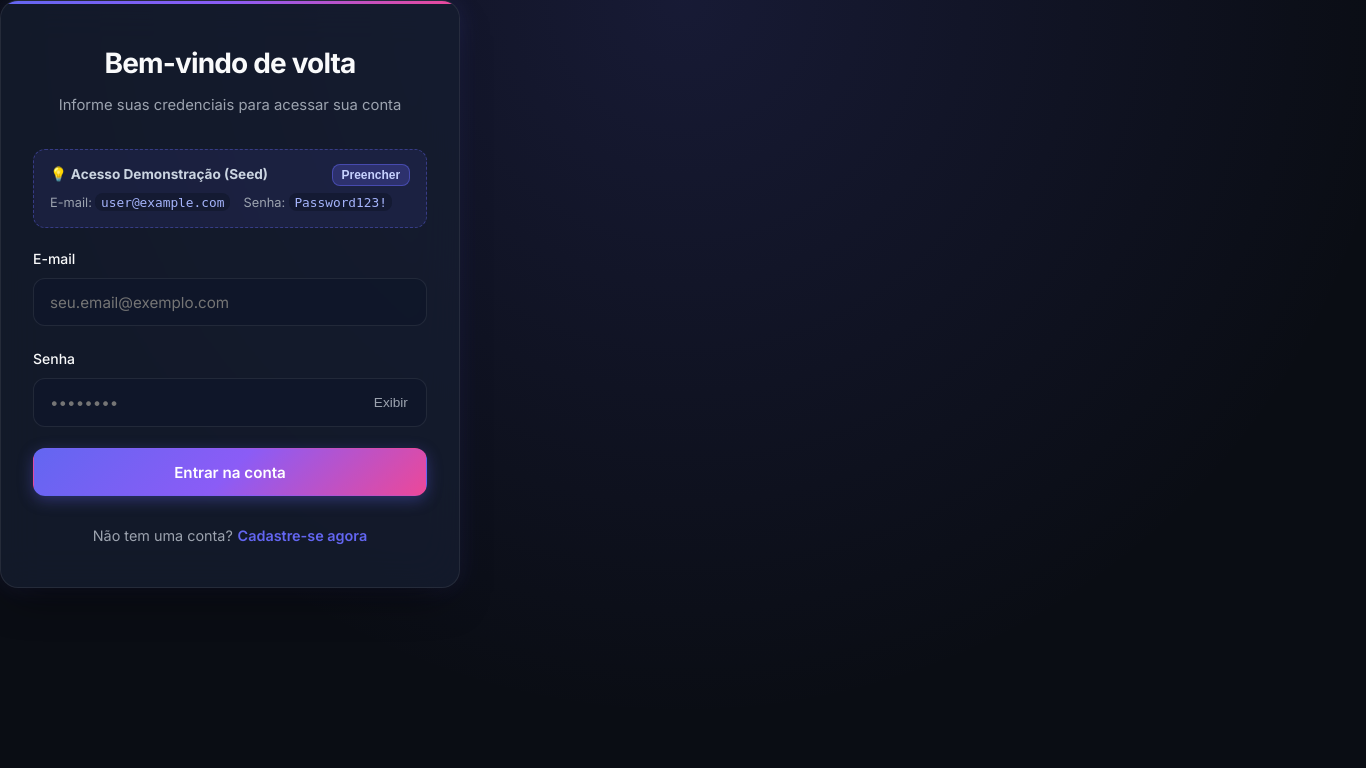
Test: LoginForm Unit Tests › exibe mensagem de erro na interface quando a autenticação falha
Type "usuario@exemplo.com" into the field with test id "input-email".
click(230, 302); type("usuario@exemplo.com")  # box [33,278,427,326]
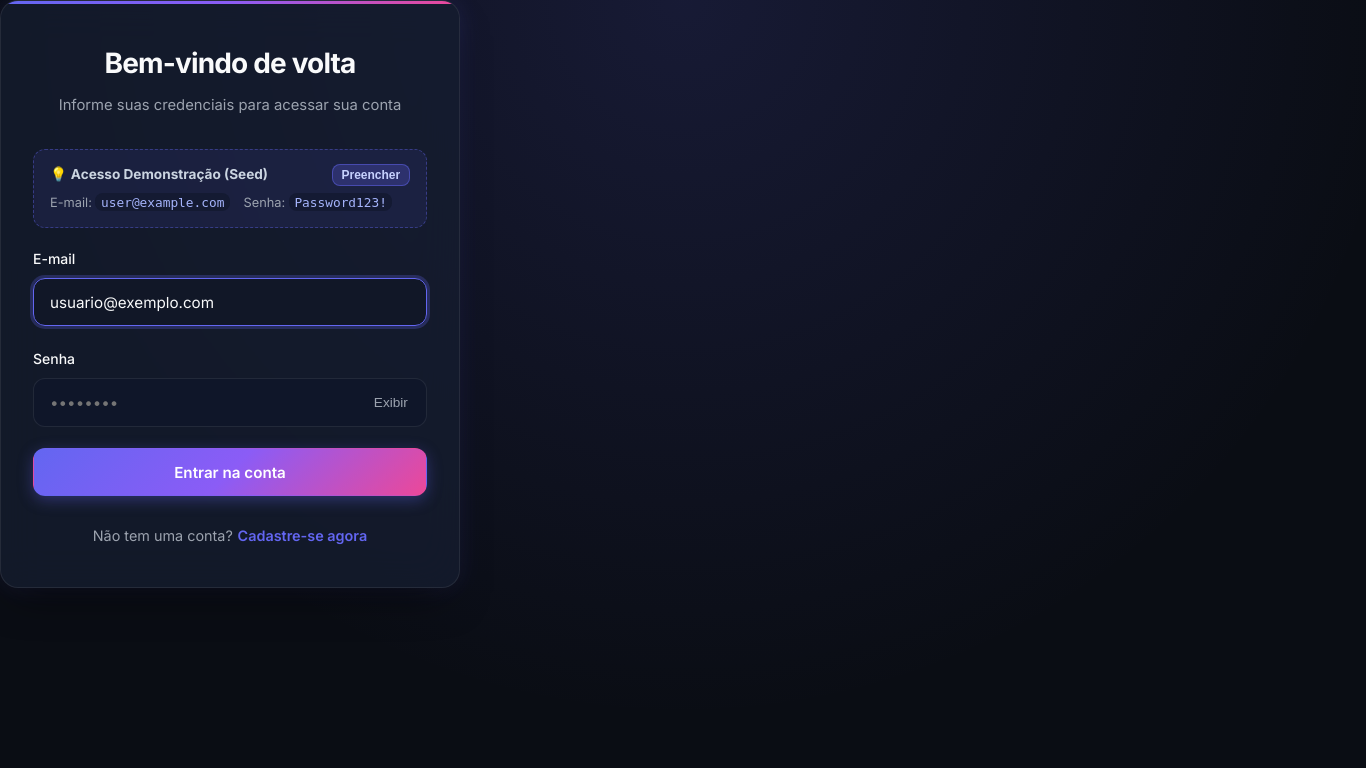
Type "senhaErrada" into the password field with test id "input-password".
click(230, 403); type("senhaErrada")  # box [33,378,427,427]
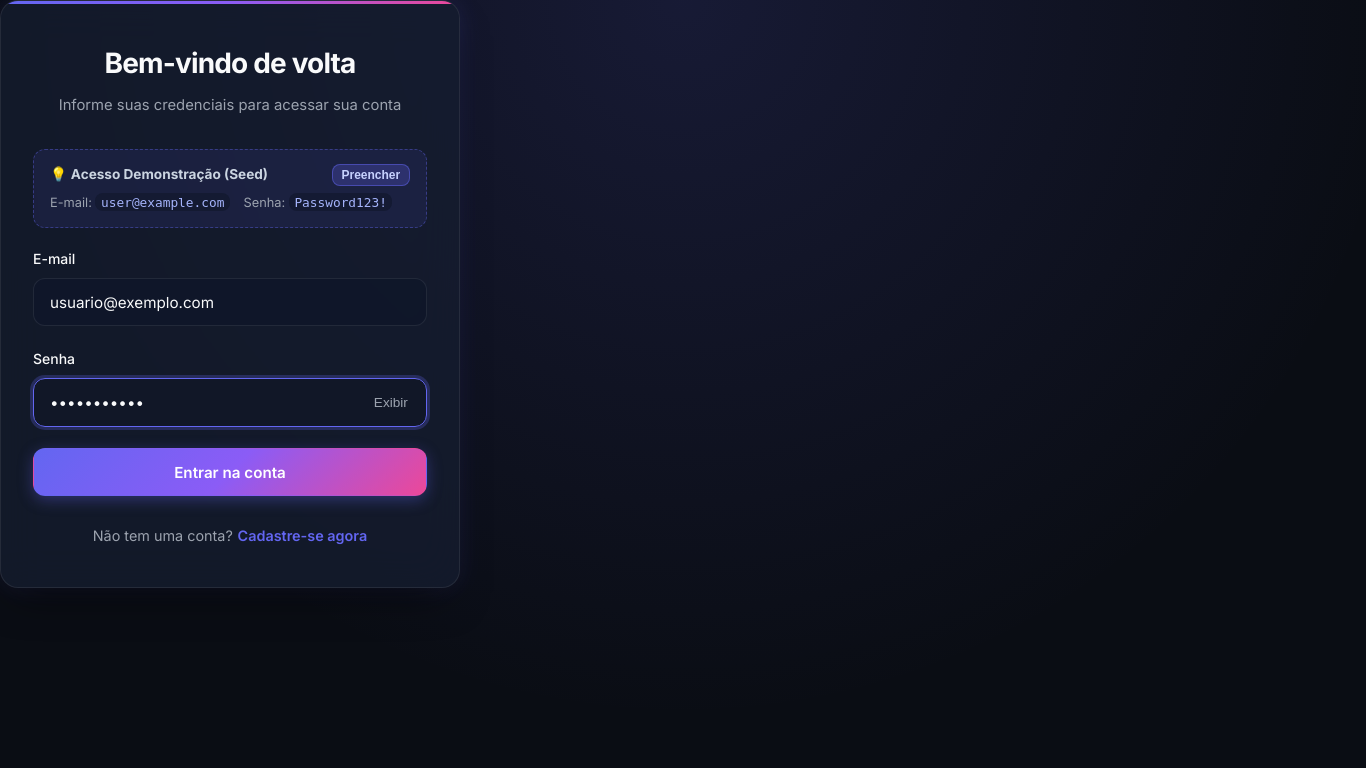
Click the button with test id "submit-login-button".
click(230, 472)  # box [33,448,427,496]
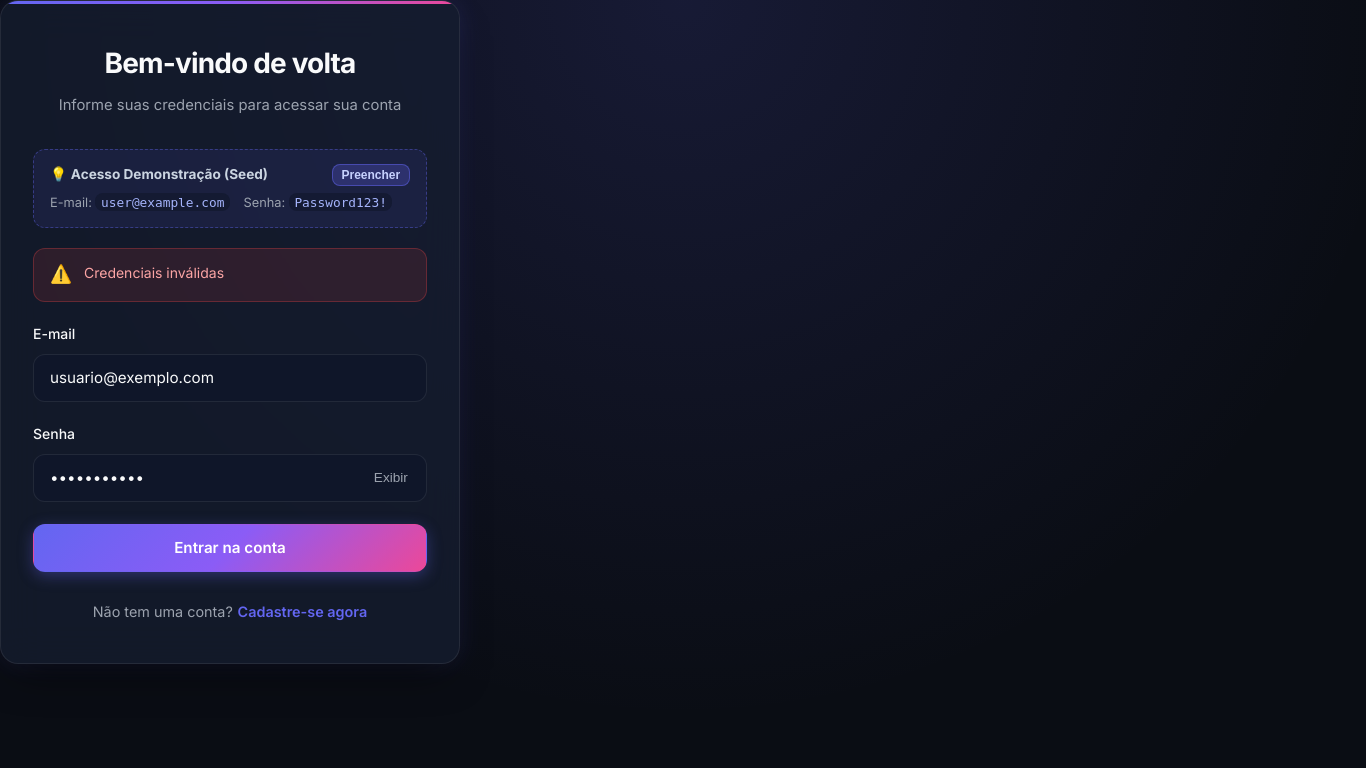
Now the message with test id "login-error-alert" shows "Credenciais inválidas", box [84,264,224,282]
